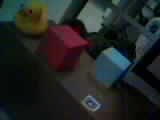duck: (9, 5, 54, 38)
